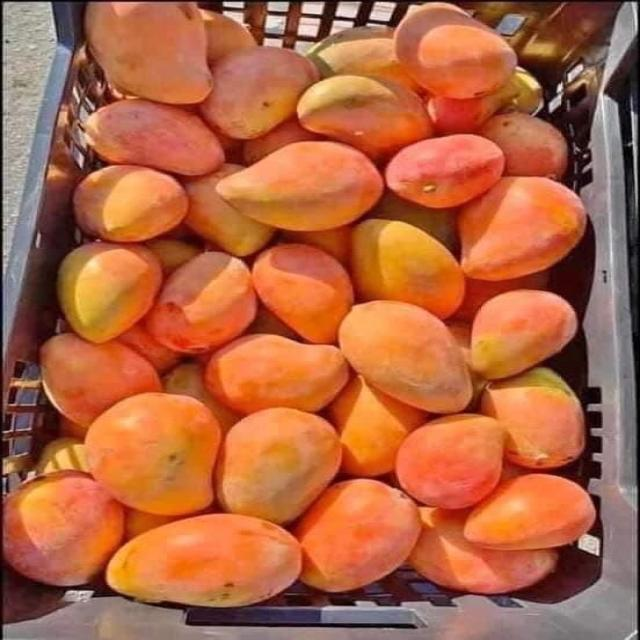mango: (106, 514, 301, 607), (85, 393, 221, 515), (216, 141, 382, 230), (339, 301, 471, 412), (216, 408, 342, 524), (294, 480, 420, 592), (3, 471, 124, 586), (457, 177, 586, 280), (85, 2, 212, 104), (409, 508, 557, 594), (40, 333, 161, 437), (395, 3, 517, 98), (297, 75, 432, 160), (145, 252, 256, 353), (206, 335, 348, 413), (352, 220, 464, 318), (201, 47, 318, 139), (57, 242, 162, 342), (85, 99, 223, 175), (481, 368, 585, 468), (396, 414, 505, 509), (252, 244, 353, 343), (464, 473, 595, 549), (327, 376, 426, 476), (471, 290, 577, 379), (385, 134, 504, 208), (74, 165, 187, 241), (185, 164, 275, 256), (427, 67, 542, 134), (307, 26, 420, 90), (478, 112, 569, 180), (367, 190, 457, 253), (163, 362, 241, 434), (454, 270, 549, 322), (427, 83, 518, 135), (243, 119, 323, 165), (447, 321, 486, 412), (125, 504, 214, 541), (118, 322, 182, 372), (200, 10, 256, 66), (281, 225, 352, 265), (499, 67, 543, 115), (145, 239, 201, 276), (245, 304, 300, 339), (35, 438, 88, 474), (125, 509, 185, 540), (209, 123, 244, 164), (58, 414, 89, 442), (158, 221, 197, 241)
